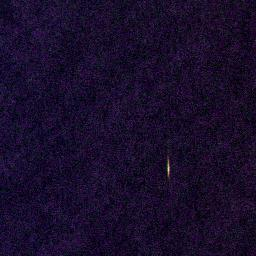Ship: (166, 157, 171, 178)
